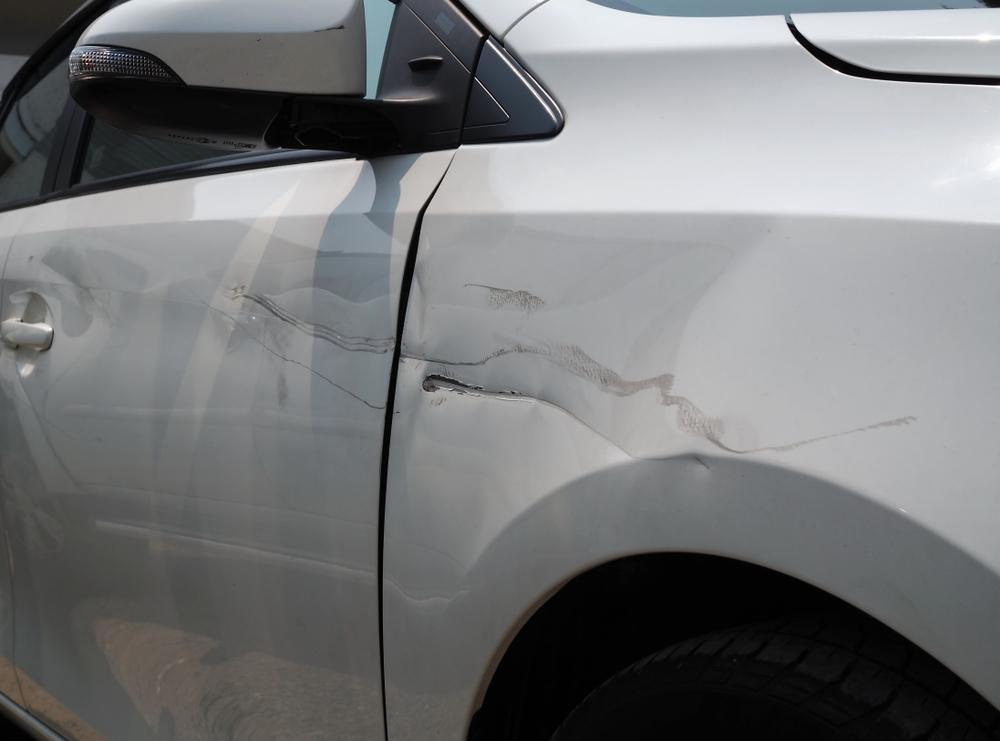dent: (403, 209, 776, 487)
scratch: (215, 274, 398, 417), (717, 410, 926, 460)
